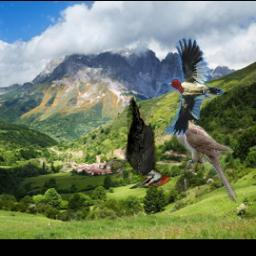Cuckoo: (168, 119, 238, 204)
Woodpecker: (164, 38, 223, 136), (112, 96, 172, 190)
